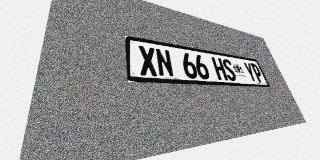6: (180, 52, 199, 79), (193, 54, 211, 80)
H: (211, 57, 228, 81)
N: (155, 48, 175, 77)
P: (250, 63, 265, 83)
S: (221, 58, 238, 81)
X: (138, 45, 158, 76)
Y: (242, 62, 258, 82)
